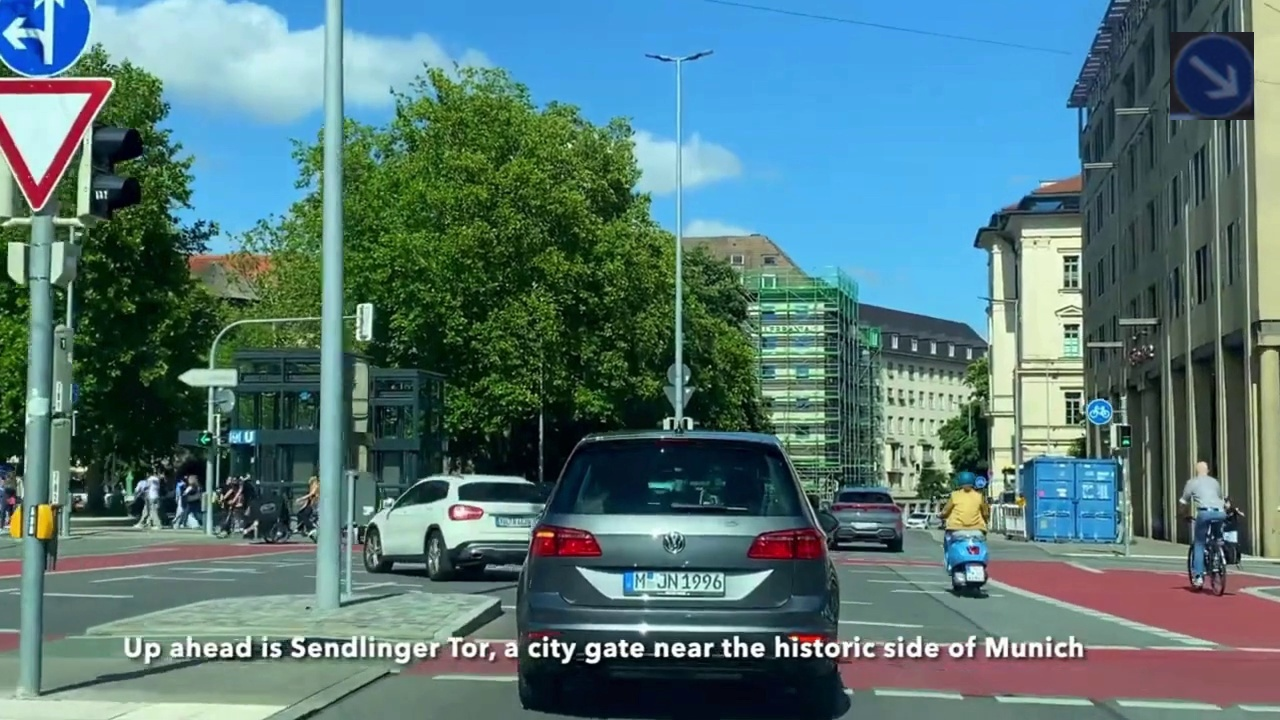Keep right: (1170, 32, 1254, 120)
